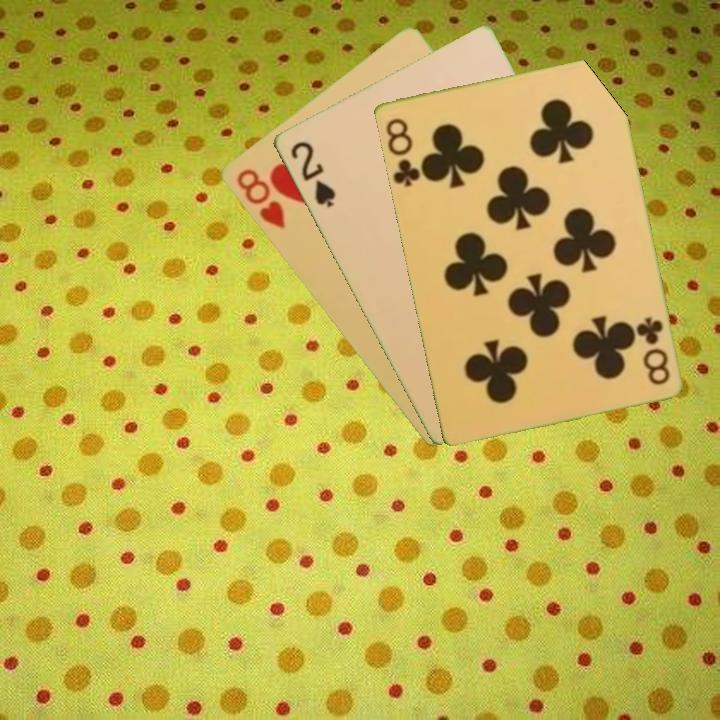2s: (286, 137, 339, 211)
8c: (382, 114, 426, 189), (632, 313, 672, 388)
8h: (232, 165, 288, 232)
